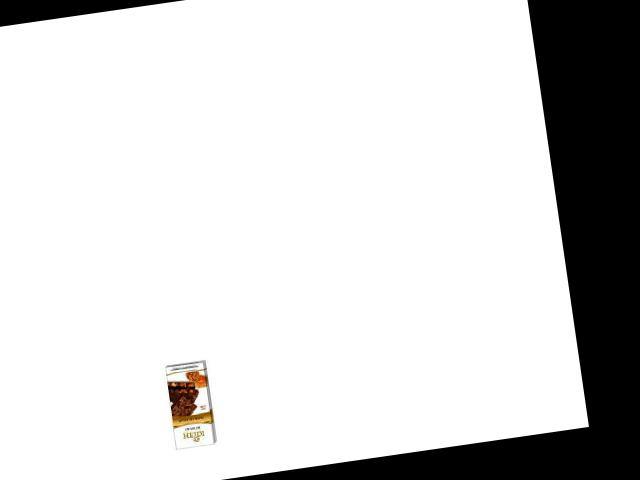chocolate: (162, 357, 219, 452)
